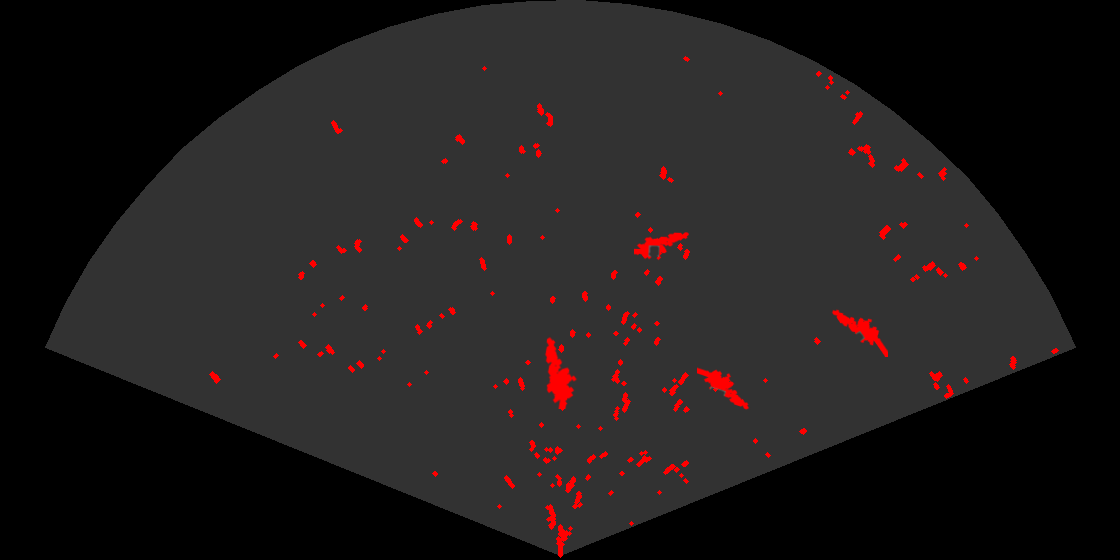frogman: (830, 308, 888, 357), (543, 335, 579, 409), (697, 366, 751, 411), (634, 231, 689, 262)
